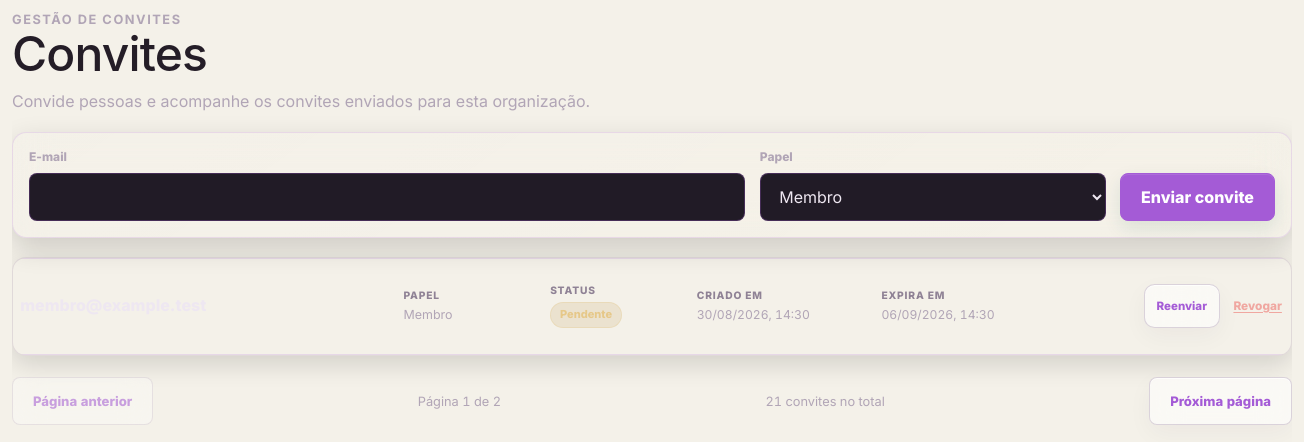
Test case: organization invitations administration flow › lista 403 falha fechado, atualiza acesso e remove controles
Expected: the button "Reenviar" is enabled, [1144,284,1220,328]
What coordinates should you click on to do the following:
click the button "Próxima página"
I would click on:
 (1221, 401)
Its box is [1149,377,1292,425].
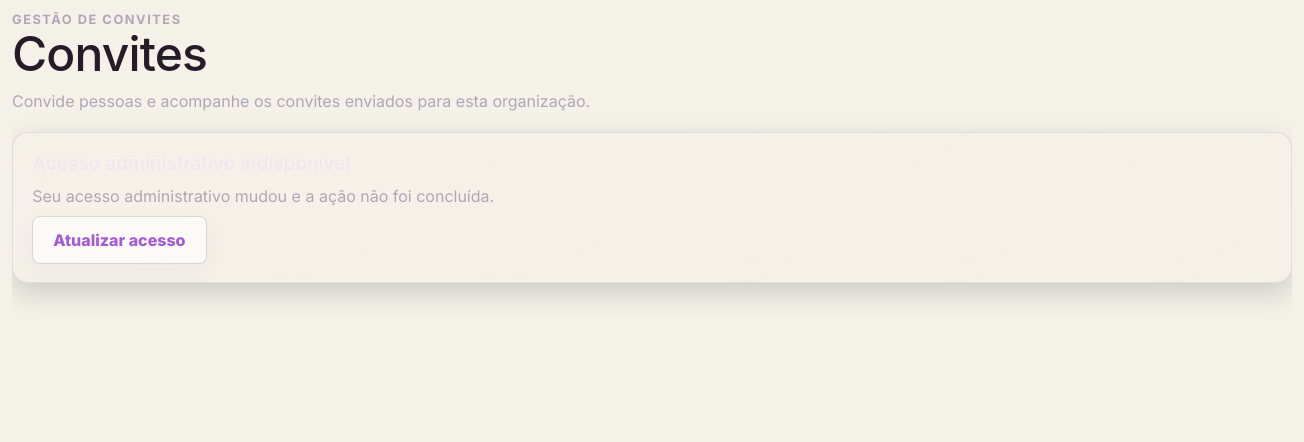
Expected: the label labelled "E-mail" is gone
Expected: the button "Enviar convite" is gone
Expected: the button "Reenviar" is gone
